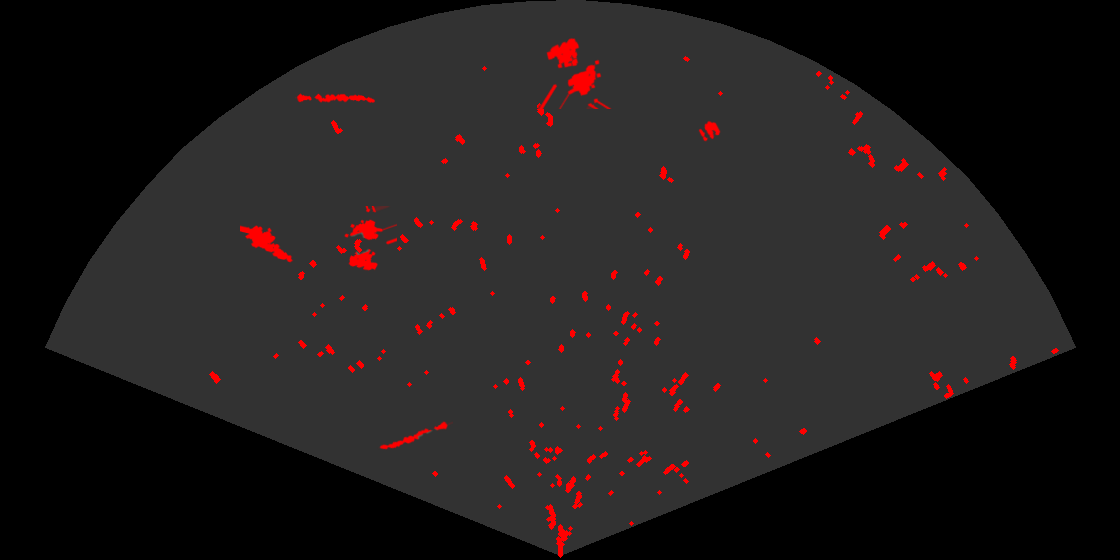ball: (697, 119, 722, 143)
cage: (537, 36, 613, 109), (343, 206, 397, 272)
chain: (377, 420, 453, 451), (295, 92, 375, 104)
frogman: (240, 224, 295, 264)
